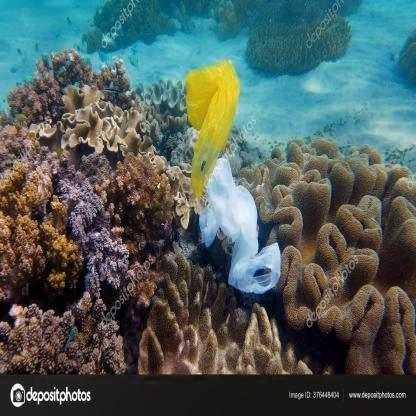pbag: (198, 157, 281, 294), (185, 59, 241, 201)
